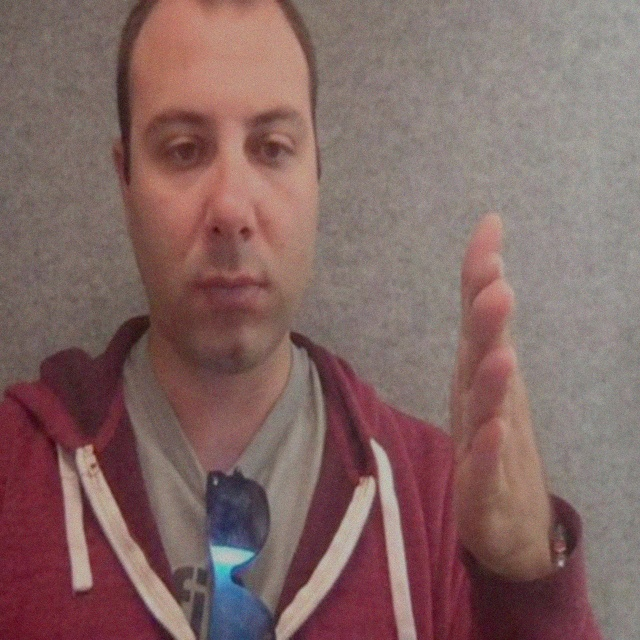Paper: (448, 203, 559, 606)
